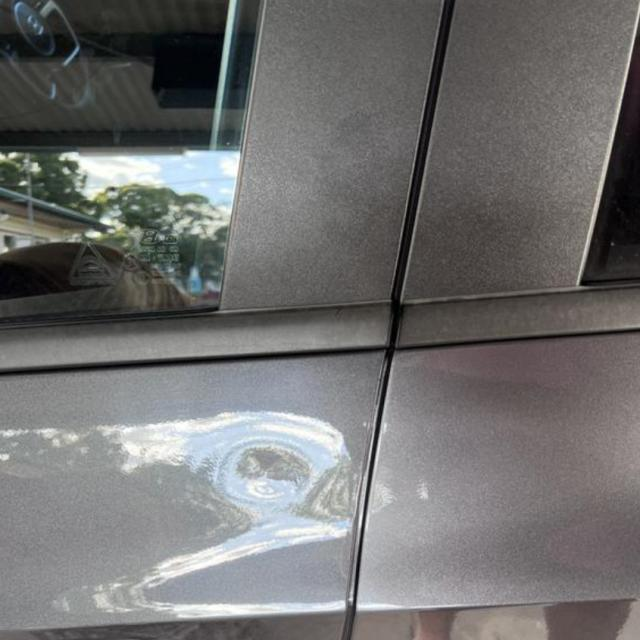dents: (178, 414, 338, 516)
